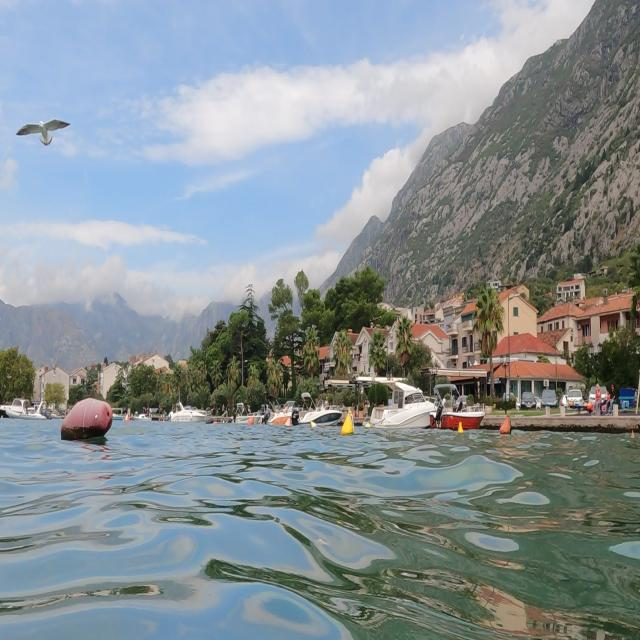boat: (368, 369, 486, 440), (242, 378, 341, 446), (0, 360, 54, 436), (164, 396, 217, 436)
buoy: (53, 389, 121, 459), (498, 411, 520, 448), (337, 406, 359, 441)
